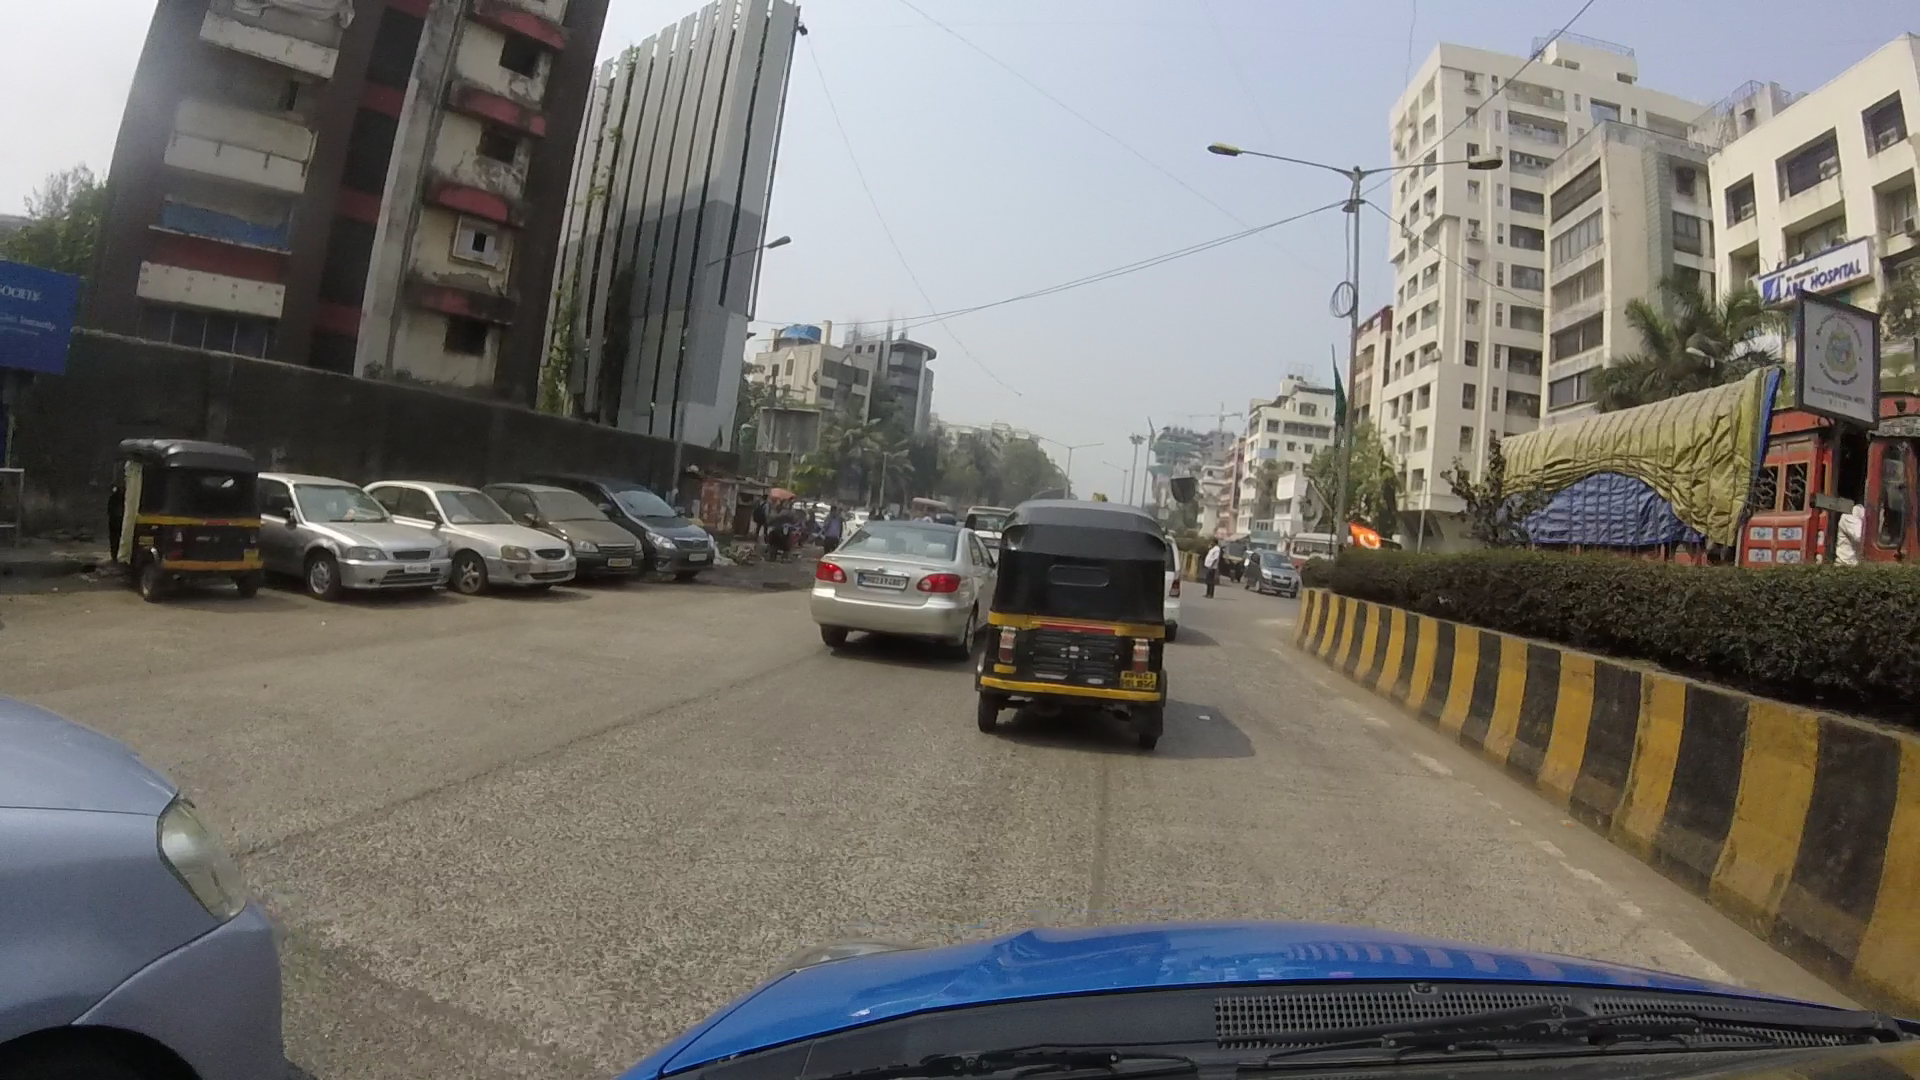car: (5, 704, 285, 1080), (240, 469, 429, 595), (816, 520, 990, 654), (375, 487, 563, 597), (498, 469, 632, 580), (572, 487, 719, 574)
rickshaw: (986, 498, 1187, 752), (108, 430, 262, 604)
truck: (1502, 319, 1875, 574)
